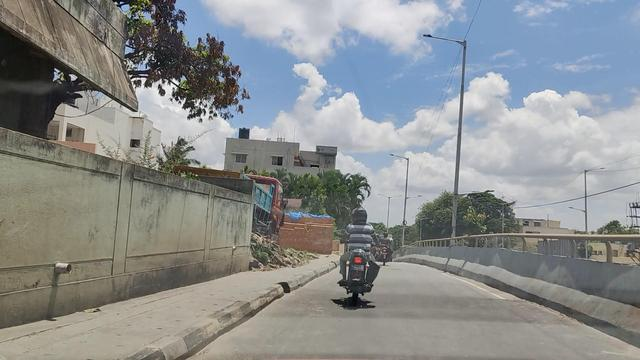RoadDamages: (286, 289, 333, 323)
